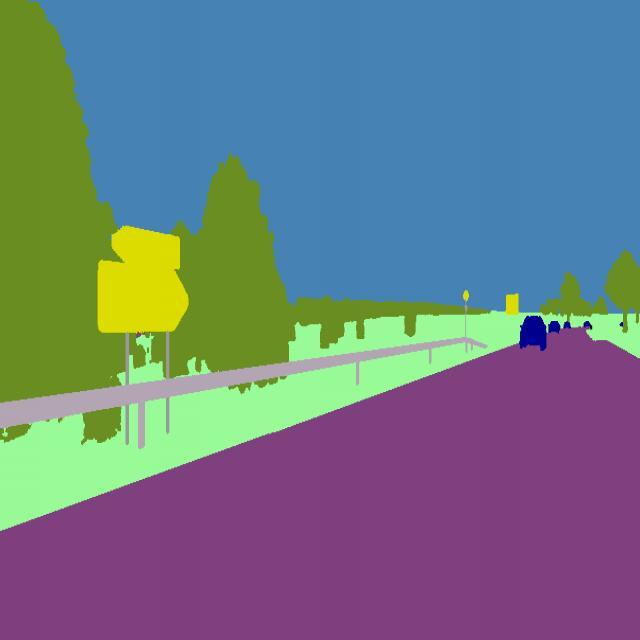safe: (514, 306, 558, 362), (547, 312, 563, 339), (580, 319, 598, 332), (562, 318, 572, 333)
